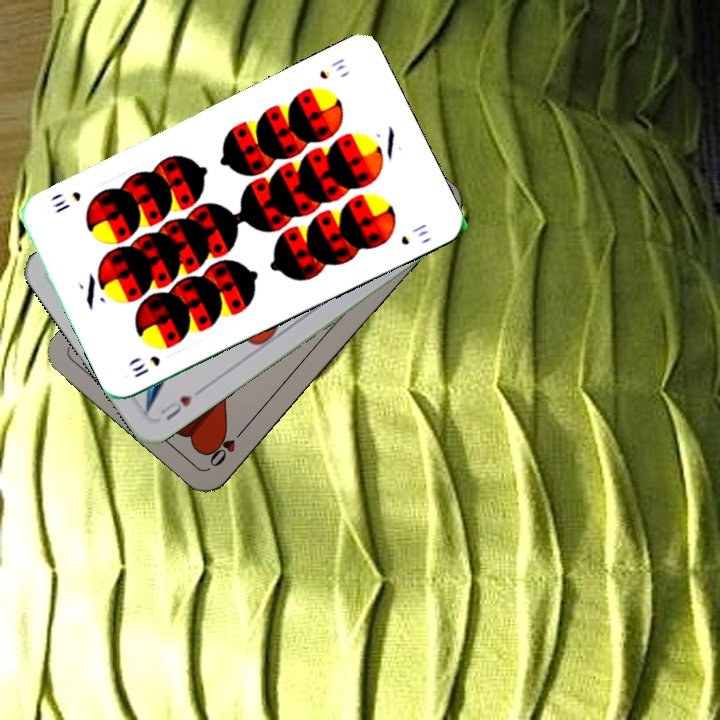HO: (205, 422, 250, 470)
HU: (156, 384, 205, 423)
S10: (128, 351, 163, 381), (315, 54, 349, 82)
